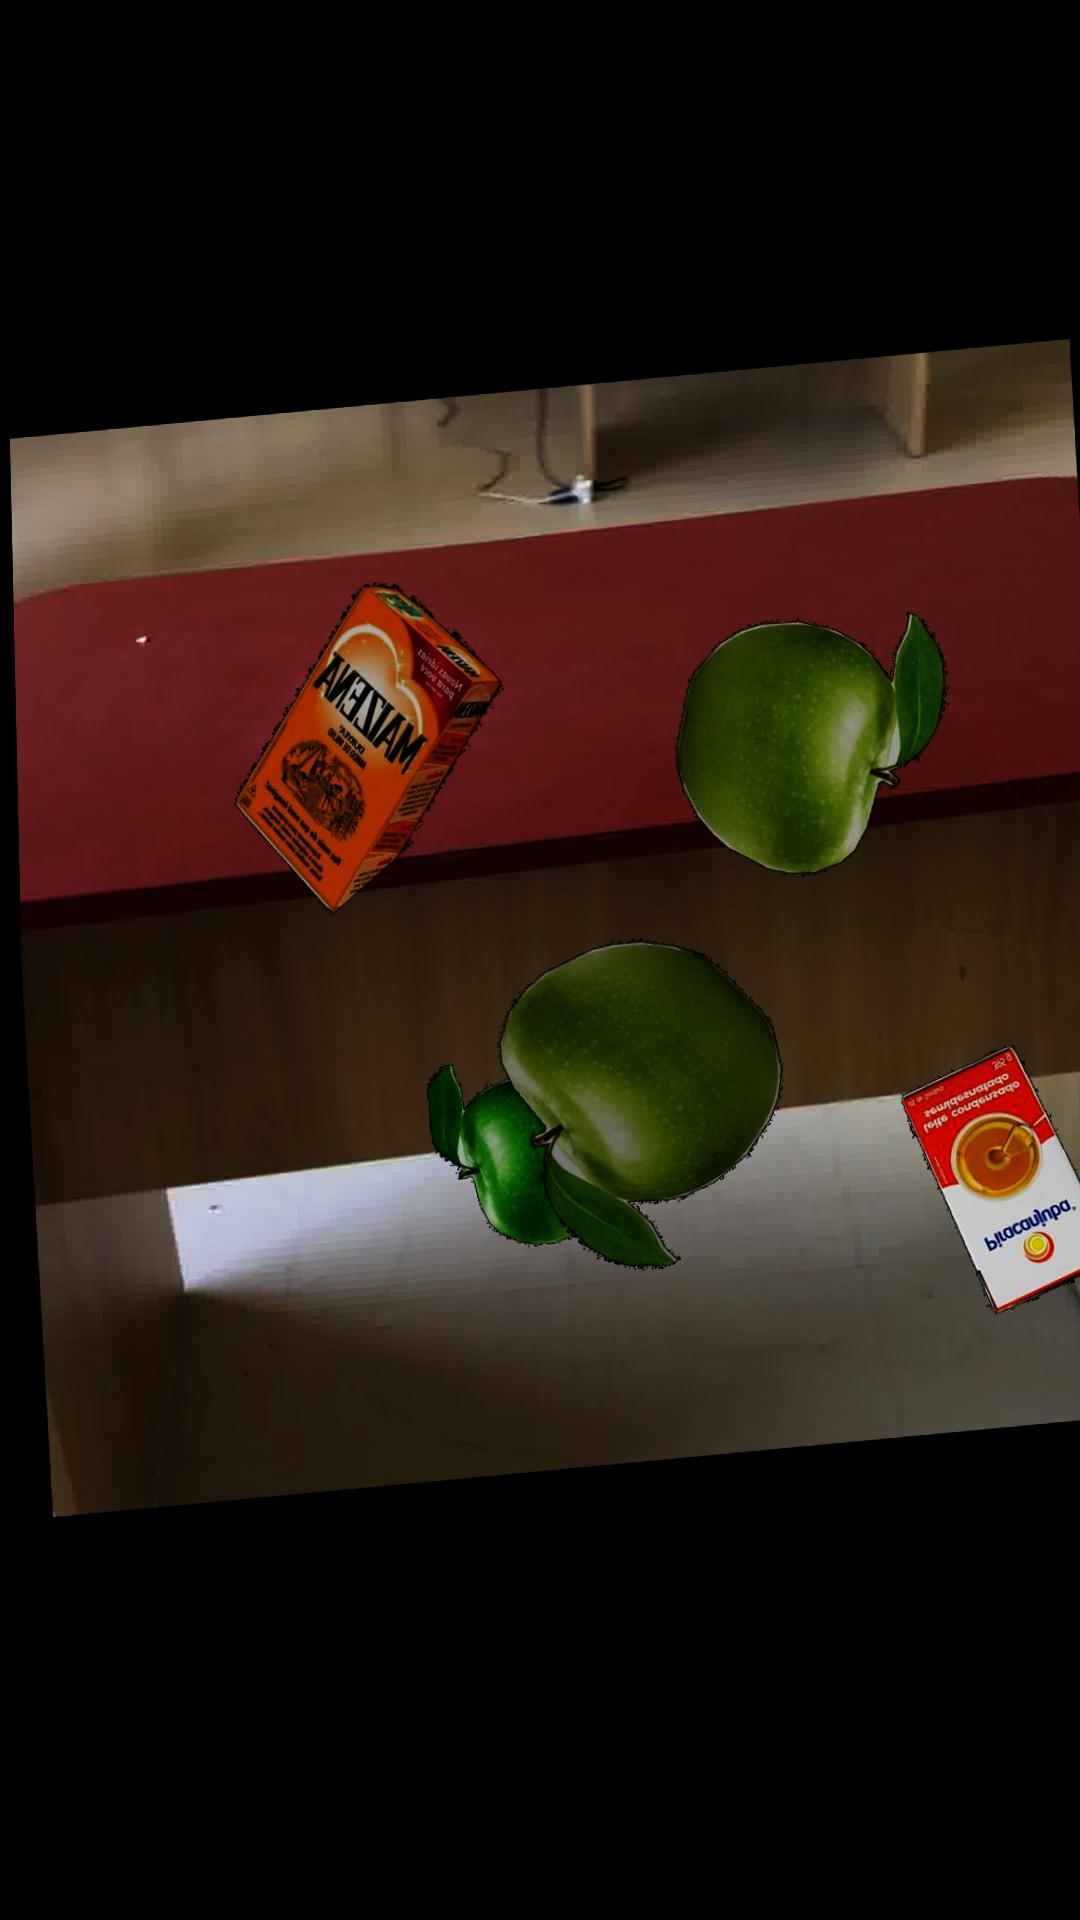green apple: (492, 949, 774, 1278), (670, 625, 939, 886), (419, 1072, 567, 1253)
